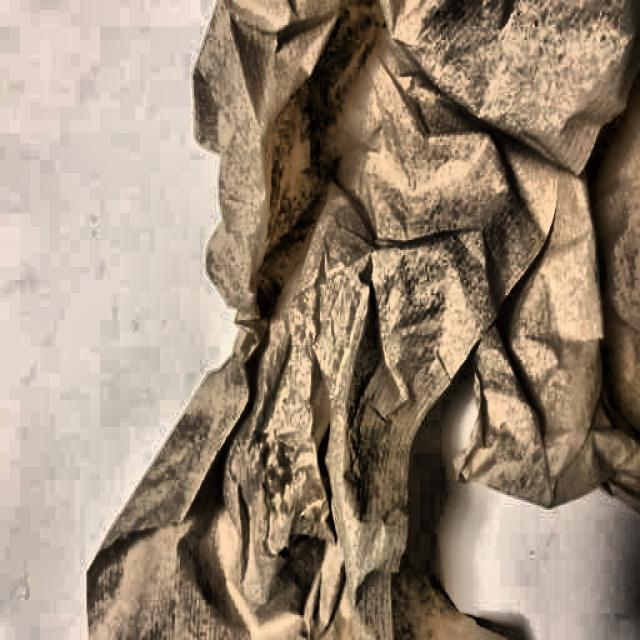trash: (202, 0, 582, 640)
